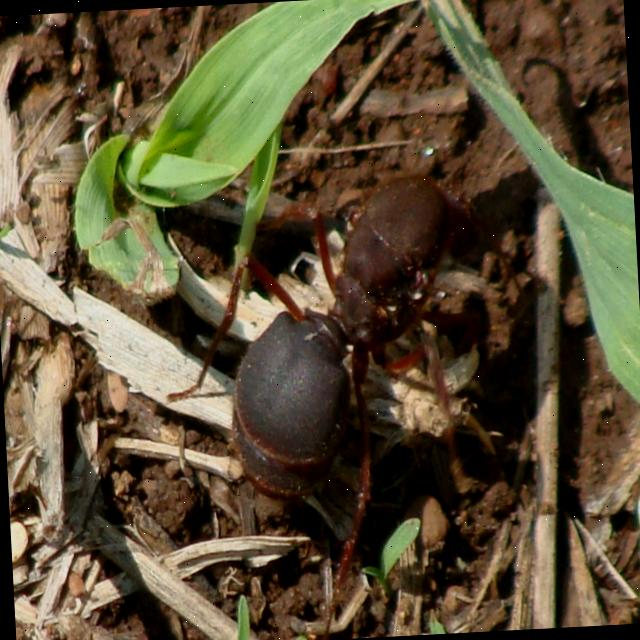Alive-Female-Dealate: (154, 168, 499, 640)
